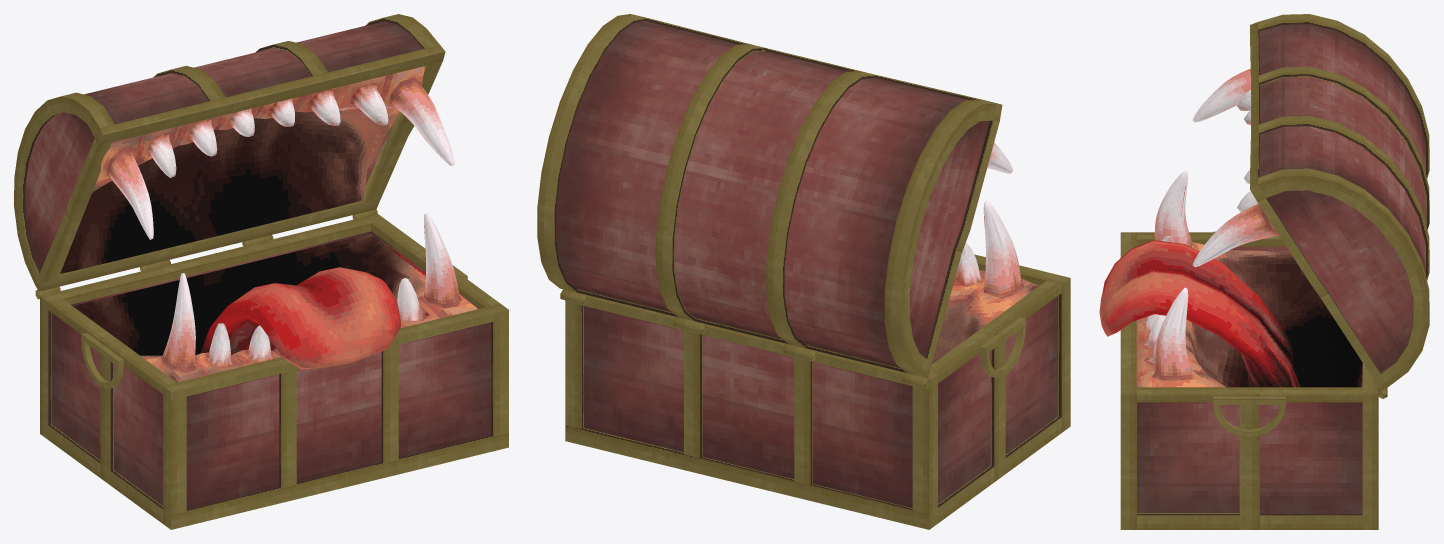
File: chest_mimic.glb
3 views of the same model, side by side, from view 1: azimuth 30°, elevation 25°; view 2: azimuth 150°, elevation 25°; view 3: azimuth 270°, elevation 25° (orthographic). The views are drawn at different scales.
Visible parts, largest first — view 1: Top, bottom, teeth, tounge, handles; view 2: Top, bottom, teeth, handles; view 3: Top, bottom, teeth, tounge, handles.
Boxes of the visible parts, x1,y1,x2,y2 form: Top: [14, 14, 454, 299]; bottom: [40, 213, 508, 529]; teeth: [73, 213, 477, 382]; tounge: [200, 267, 400, 369]; handles: [81, 265, 467, 388]; Top: [537, 14, 1012, 388]; bottom: [565, 254, 1070, 529]; teeth: [931, 201, 1038, 364]; handles: [980, 317, 1025, 377]; Top: [1192, 14, 1429, 398]; bottom: [1120, 232, 1378, 529]; teeth: [1136, 171, 1362, 387]; tounge: [1099, 240, 1304, 387]; handles: [1213, 231, 1285, 437].
Size of the model in its own units: 1.54 by 1.51 by 1.28.
Materials: 2 (2 with a texture image).
